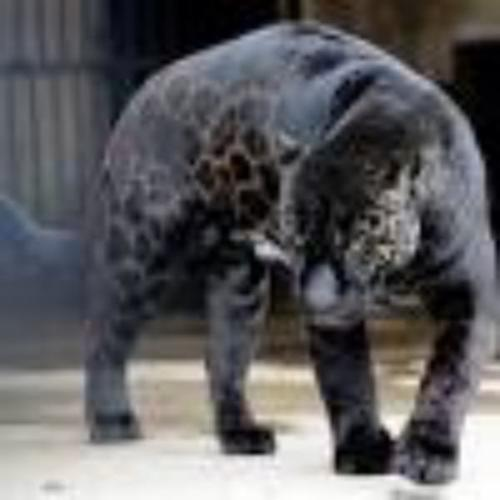panther-endangered: (81, 22, 495, 482)
